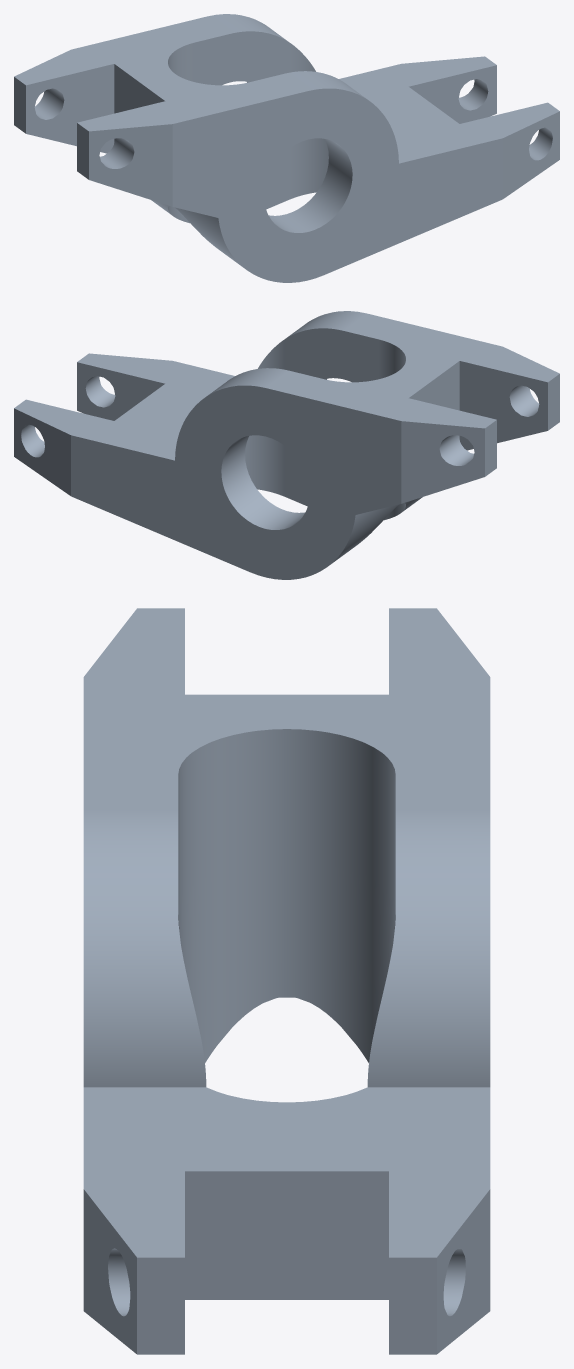
File: rocker_arm.obj
3 renders of one model, top to bottom at view 1: azimuth 30°, elevation 25°; view 2: azimuth 150°, elevation 25°; view 3: azimuth 270°, elevation 25°, orthographic. The views are drawn at different scales.
Parts seen in each view (by area): view 1: 1; view 2: 1; view 3: 1.
Part boxes in pixels (x1=…): 1: x1=14, y1=14, x2=559, y2=282; 1: x1=14, y1=311, x2=559, y2=579; 1: x1=83, y1=608, x2=490, y2=1354.
Size of the model in its own units: 50.81 by 19.53 by 19.
